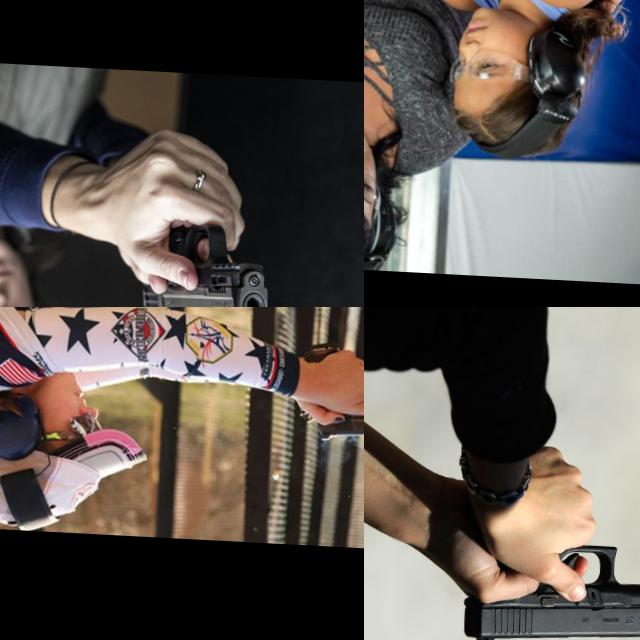handgun: (456, 536, 640, 640), (136, 216, 275, 307), (308, 388, 364, 449), (364, 0, 430, 39)
